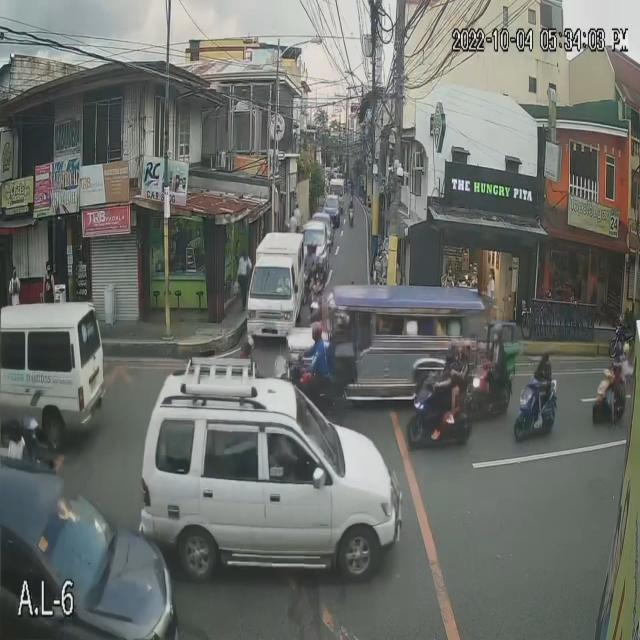Full-Faced: (309, 321, 328, 344), (447, 340, 464, 364)
Half-Faced: (489, 317, 504, 347), (538, 348, 551, 367)
